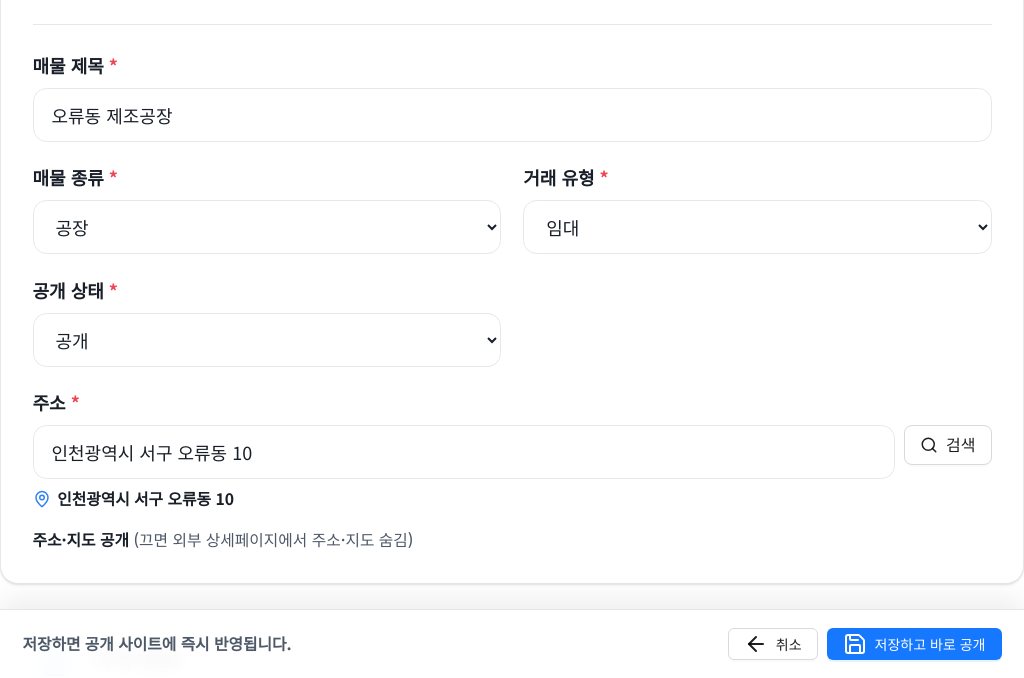
Test: shows rental fields and rejects a blank monthly rent
Step 1. Click the button "저장하고 바로 공개" → coordinates (914, 644), box [827,628,1002,660]
(page scrolled)
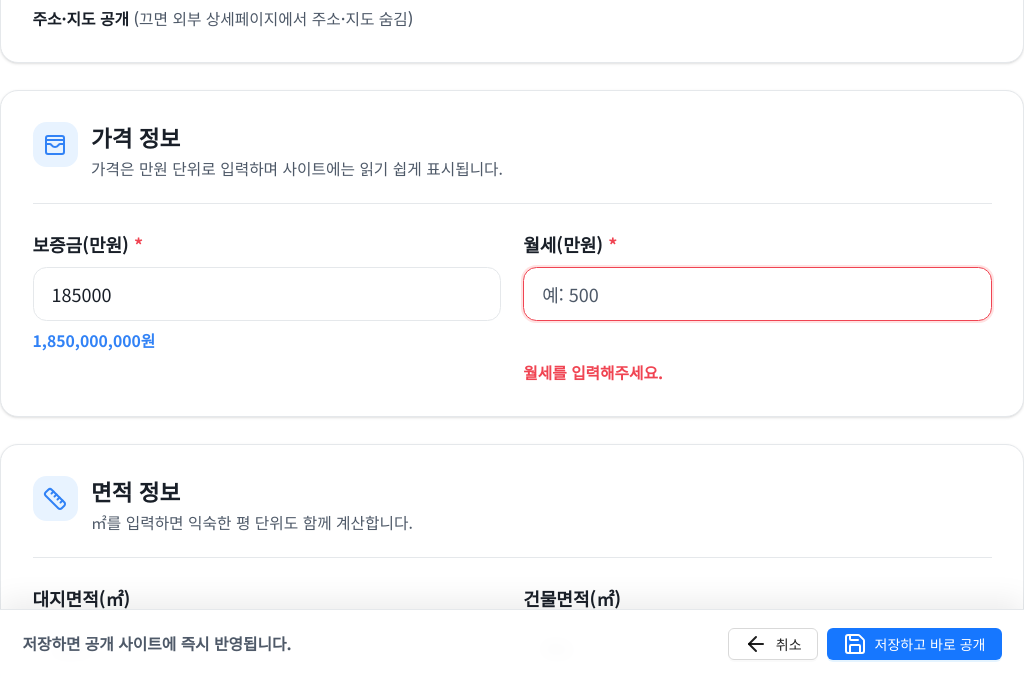
Check: the text "월세를 입력해주세요." is shown, box [523,360,663,384]
